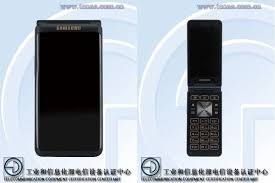samsung: (32, 16, 105, 158)
